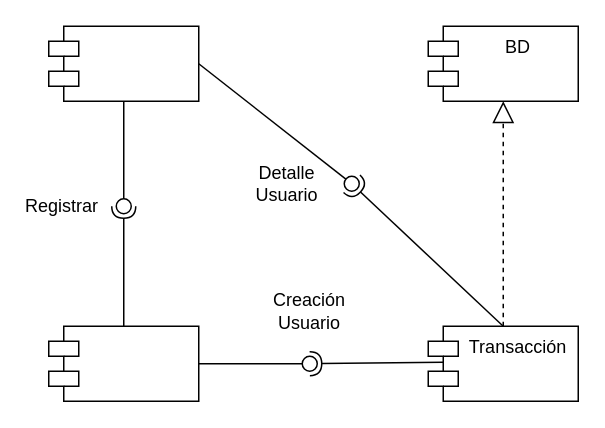
Image size: 605x428. Some labels were removed from this diagram. The shapes that lost their labels are listed below. From the top down, each one's centre as x and y in pixels, then its label:
At (x=123, y=63): "Usuario".
At (x=123, y=363): "Validador".
